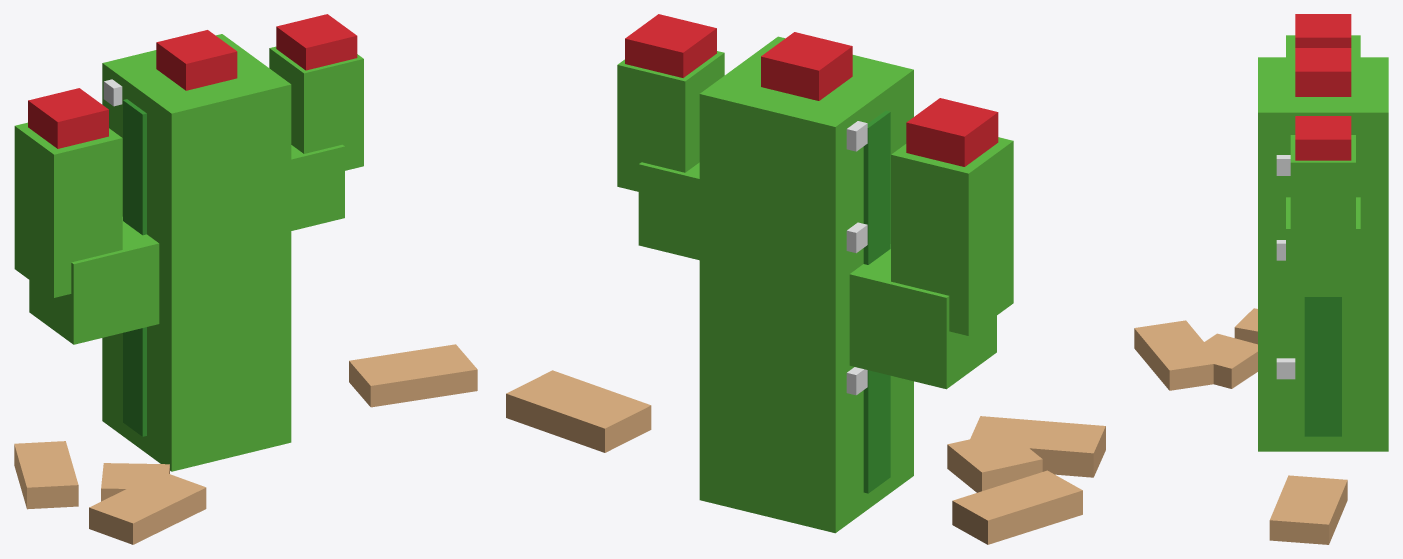
File: Cactus.fbx
3 renders of one model, left to right at view 1: azimuth 30°, elevation 25°; view 2: azimuth 150°, elevation 25°; view 3: azimuth 270°, elevation 25°, orthographic. The views are drawn at different scales.
Parts seen in each view (by area): view 1: Cactus.001, Sand.001, FlowerRed.001, CactusDark; view 2: Cactus.001, Sand.001, FlowerRed.001, CactusDark, White.001; view 3: Cactus.001, Sand.001, FlowerRed.001, CactusDark, White.001.
Part boxes in pixels (x1,y1,x2,y2): Cactus.001: (14, 34, 363, 471); Sand.001: (14, 344, 477, 544); FlowerRed.001: (28, 14, 357, 148); CactusDark: (123, 99, 146, 436); Cactus.001: (617, 36, 1013, 533); Sand.001: (506, 370, 1105, 544); FlowerRed.001: (625, 14, 998, 166); CactusDark: (863, 110, 890, 493); White.001: (846, 121, 867, 395); Cactus.001: (1258, 35, 1388, 451); Sand.001: (1134, 308, 1347, 544); FlowerRed.001: (1295, 14, 1351, 160); CactusDark: (1304, 297, 1341, 436); White.001: (1276, 155, 1295, 379).
Size of the model in its own units: 5.48 by 4.3 by 2.72.
